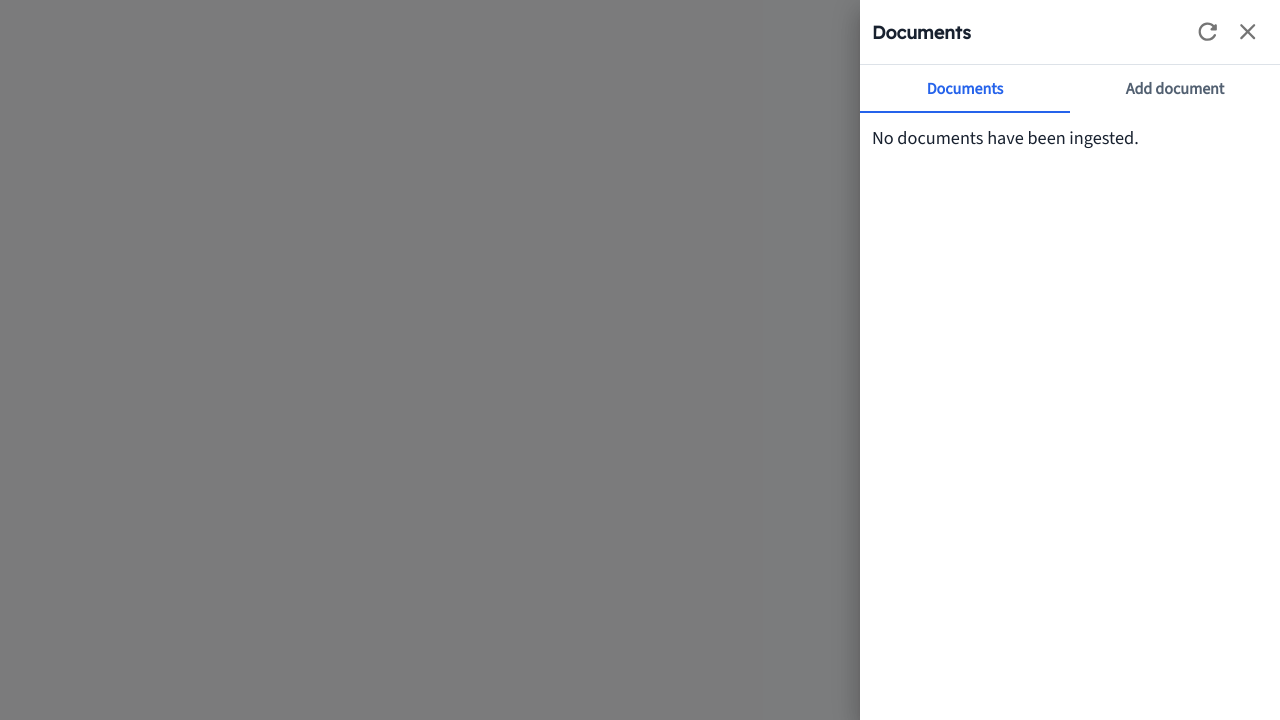
Test: DocumentsPanel › shows a safe error message for a job that fails
The width and height of the screenshot is (1280, 720).
Click the tab "Add document" at [1175, 89], box [1070,65,1279,113]
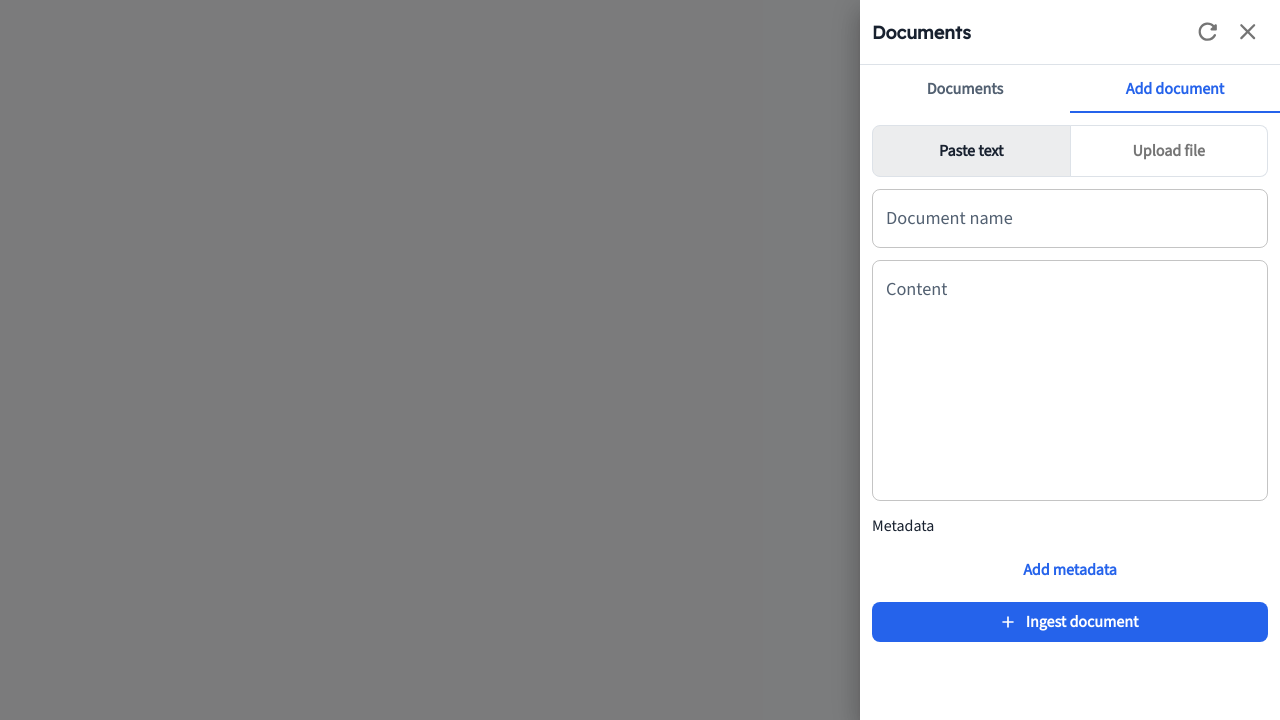
Type "Bad doc" into the field labelled "Document name" at [1070, 219], box [872,189,1268,248]
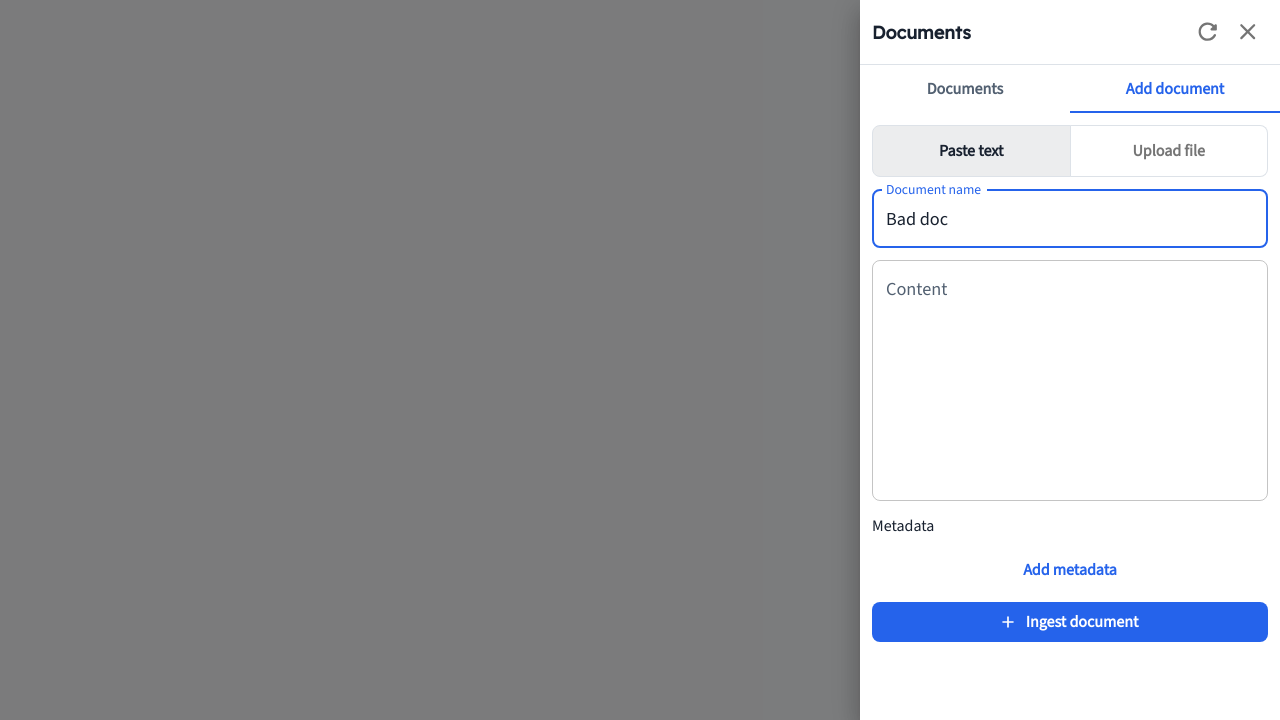
Type "content" into the text box labelled "Content" at [1070, 381], box [886,277,1254,485]
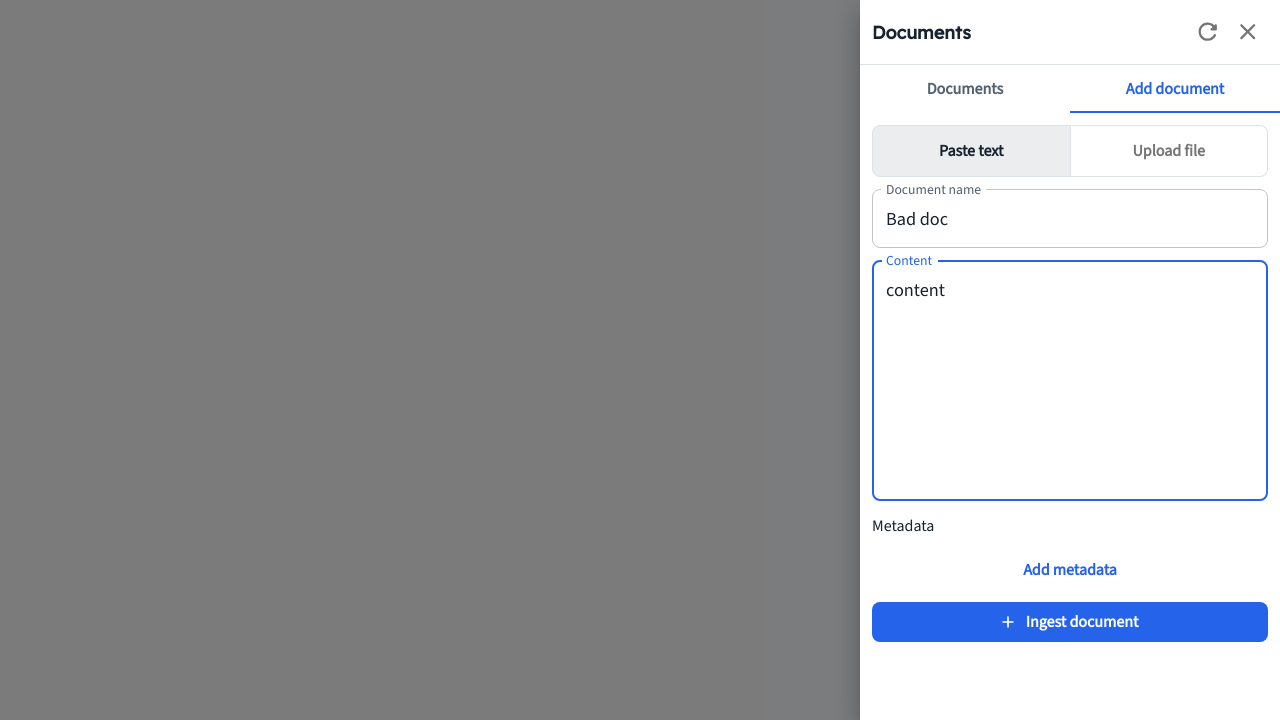
Click the button "Ingest document" at [1070, 622], box [872,602,1268,642]
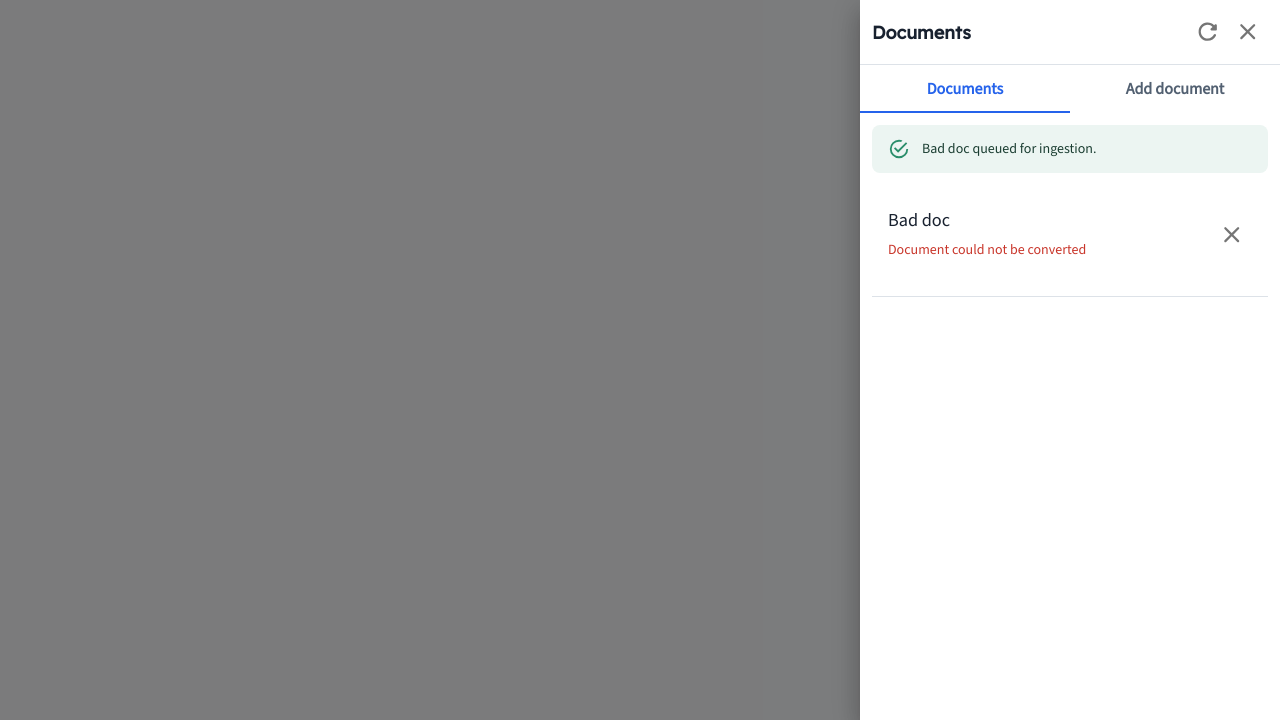
Expected: the text "Document could not be converted" is shown, [888,240,1086,259]
Click the button named "Dismiss Bad doc" at [1232, 235], box [1212,215,1252,255]
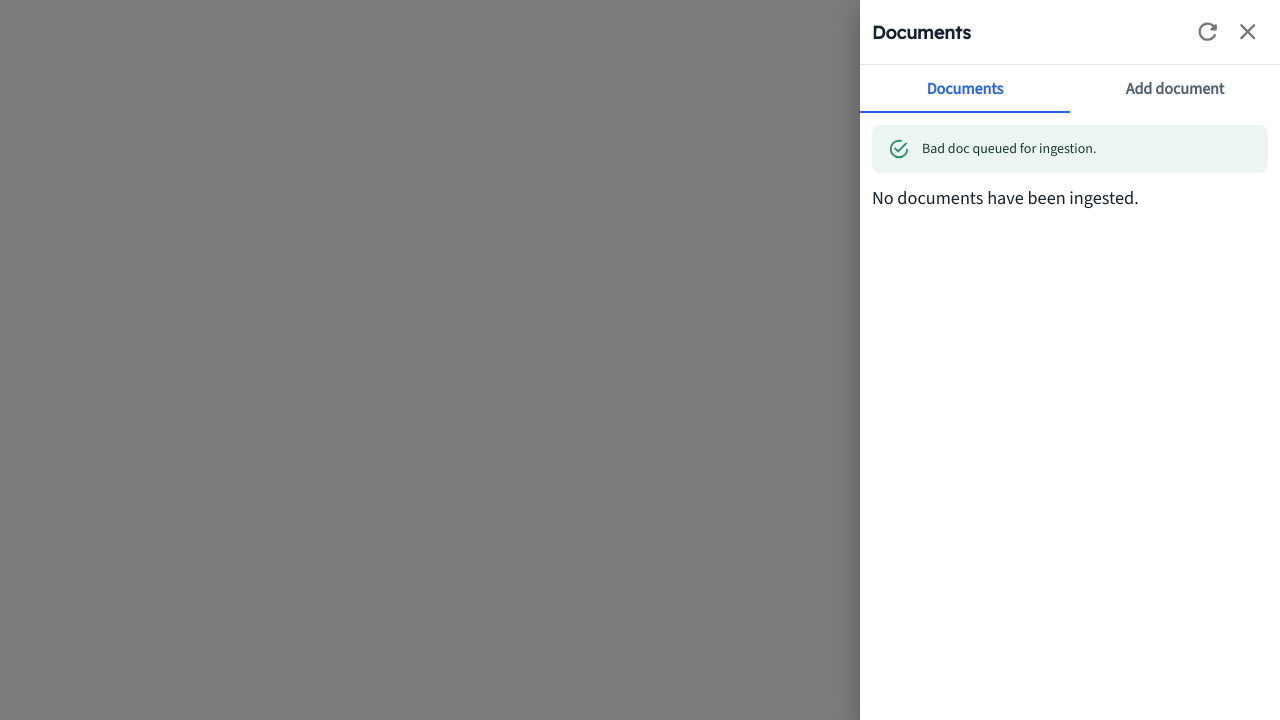
Expected: the text "Document could not be converted" is gone
